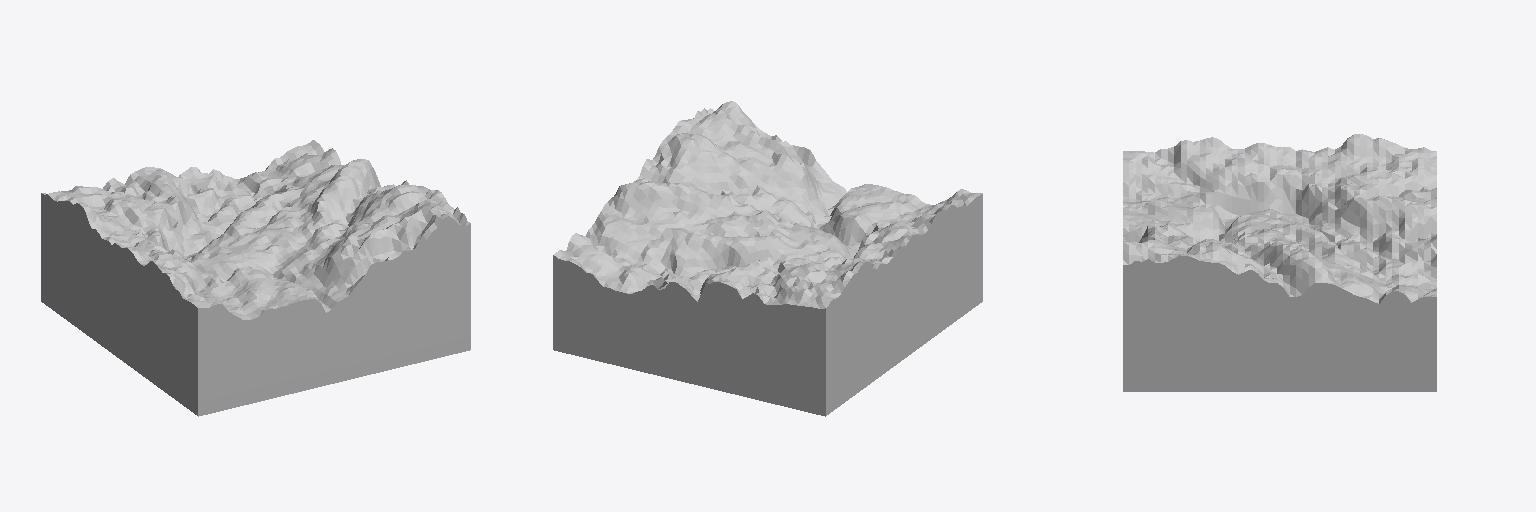
The model's file is block_1_2.obj.
The picture shows the model from 3 angles: view 1: azimuth 30°, elevation 25°; view 2: azimuth 150°, elevation 25°; view 3: azimuth 270°, elevation 25°; orthographic projection.
Parts seen in each view (by area): view 1: Mesh_6; view 2: Mesh_6; view 3: Mesh_6.
Part boxes in pixels (x1,y1,x2,y2): Mesh_6: (41,140,470,416); Mesh_6: (553,101,982,416); Mesh_6: (1123,134,1436,391).
Size of the model in its own units: 0.1 by 0.049 by 0.1.